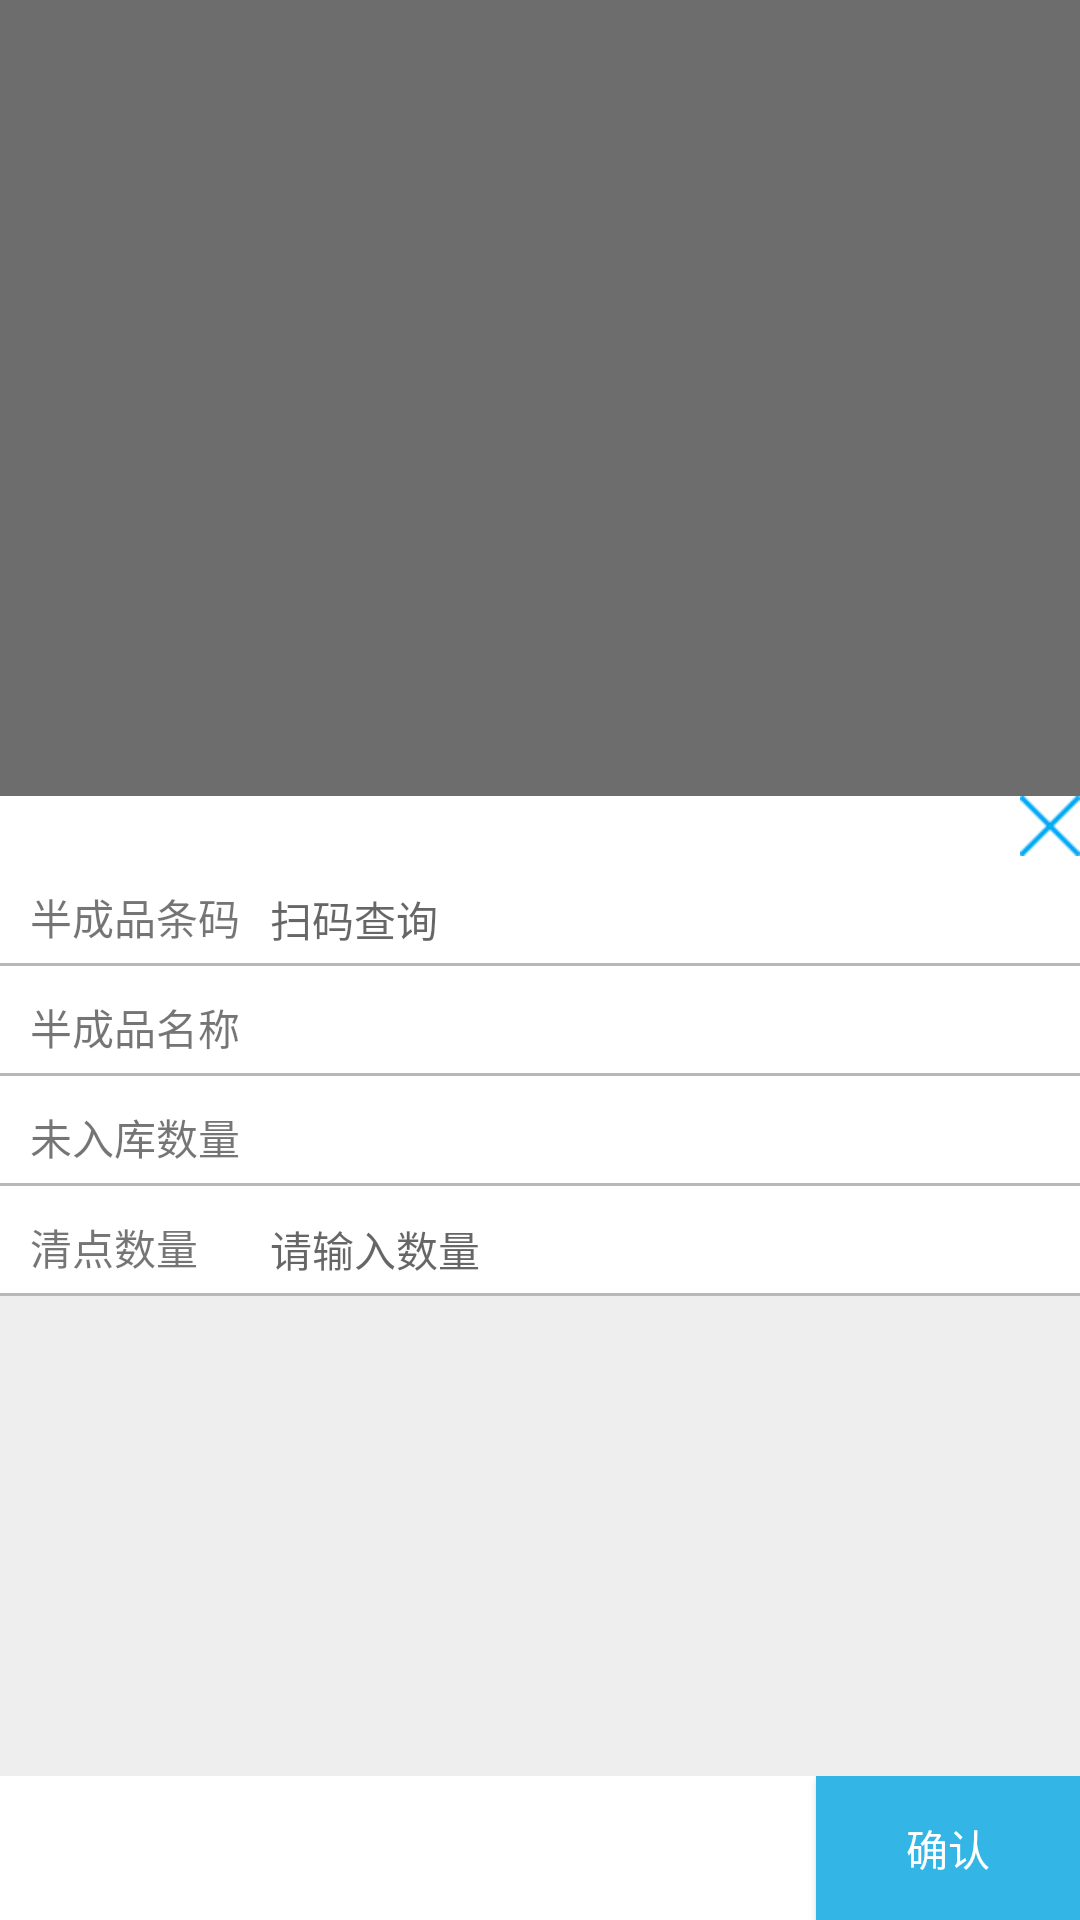

Screen size 1080px x 1920px. Icon name, then its box in pixels as (x1, y1, x2, y2):
close: (1020, 796, 1080, 856)
